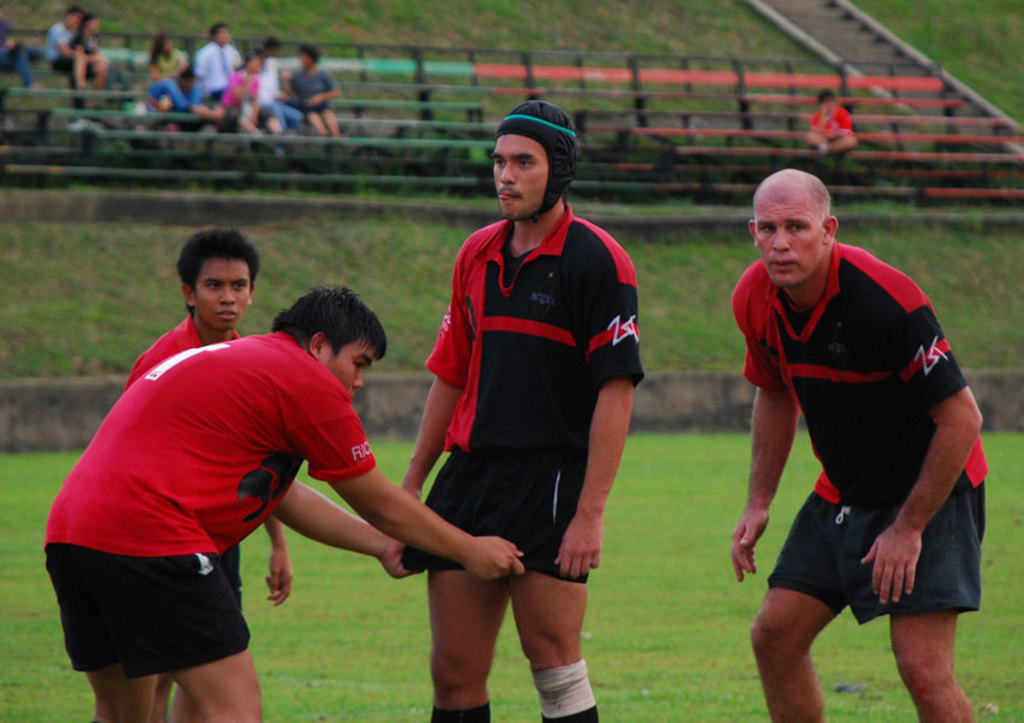Person: (41, 281, 525, 723), (401, 97, 643, 723), (731, 166, 988, 721), (120, 224, 292, 719), (0, 2, 343, 156), (807, 88, 859, 154)
